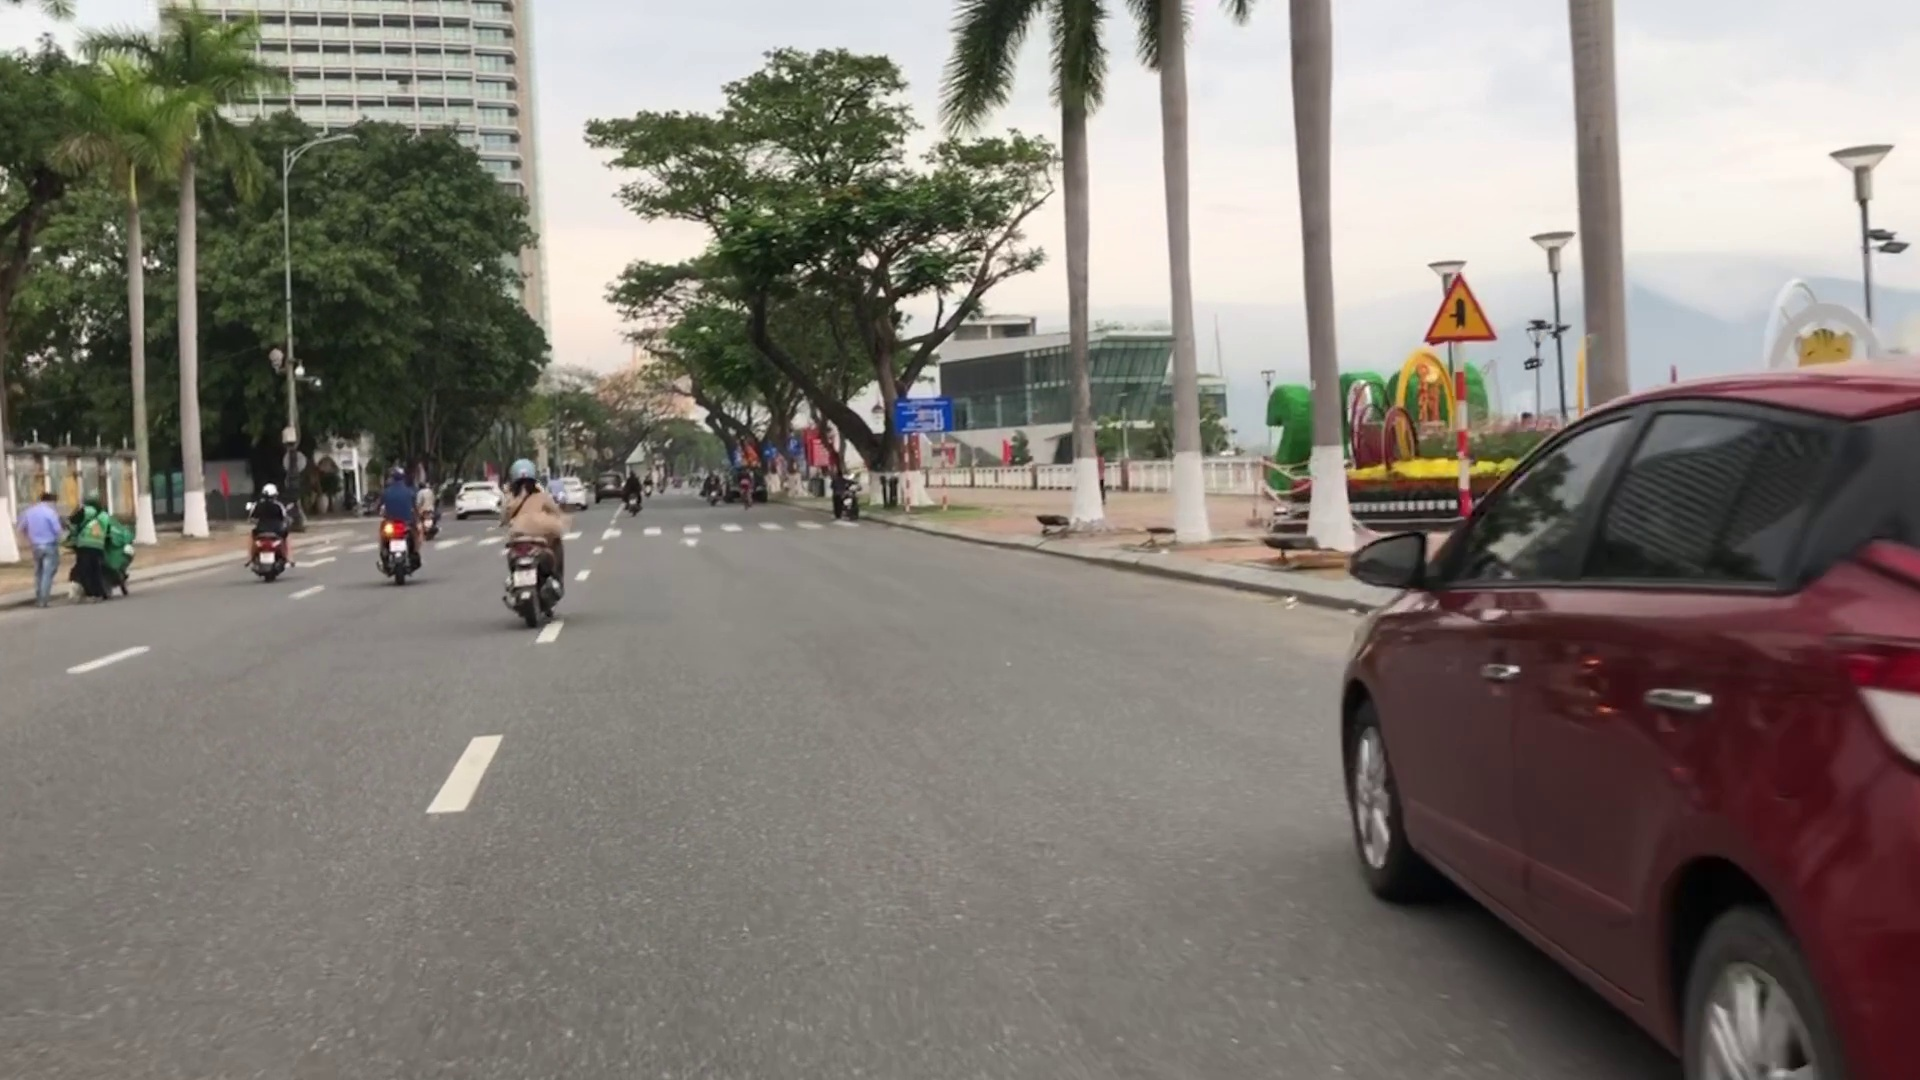Giao nhau voi duong khong uu tien: (1422, 272, 1495, 345)
